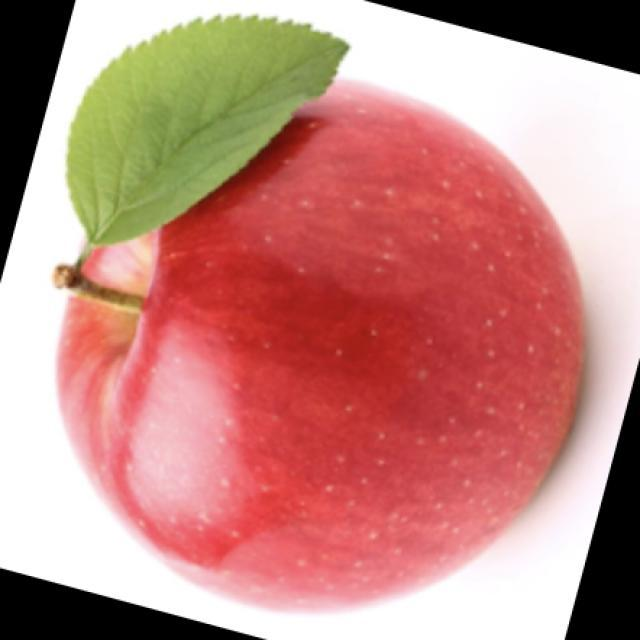Fresh Apple: (65, 93, 600, 640)
